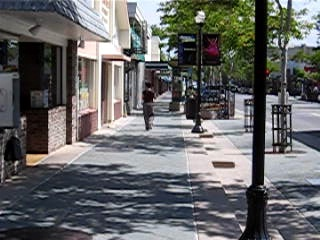person: (141, 82, 156, 133), (140, 82, 155, 133), (142, 82, 157, 133), (141, 81, 156, 132), (141, 83, 156, 134)
target_negative: (139, 118, 246, 162), (269, 53, 293, 208), (169, 152, 203, 160), (10, 237, 131, 239), (304, 140, 307, 196)
